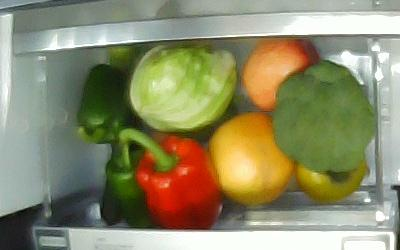apple: (242, 40, 319, 112)
broccoli: (271, 60, 373, 172)
grapefruit: (208, 112, 295, 207)
lettuce: (130, 45, 236, 133)
paprika: (119, 127, 223, 230), (76, 64, 130, 145), (106, 140, 155, 228)
persimmon: (296, 155, 365, 203)
